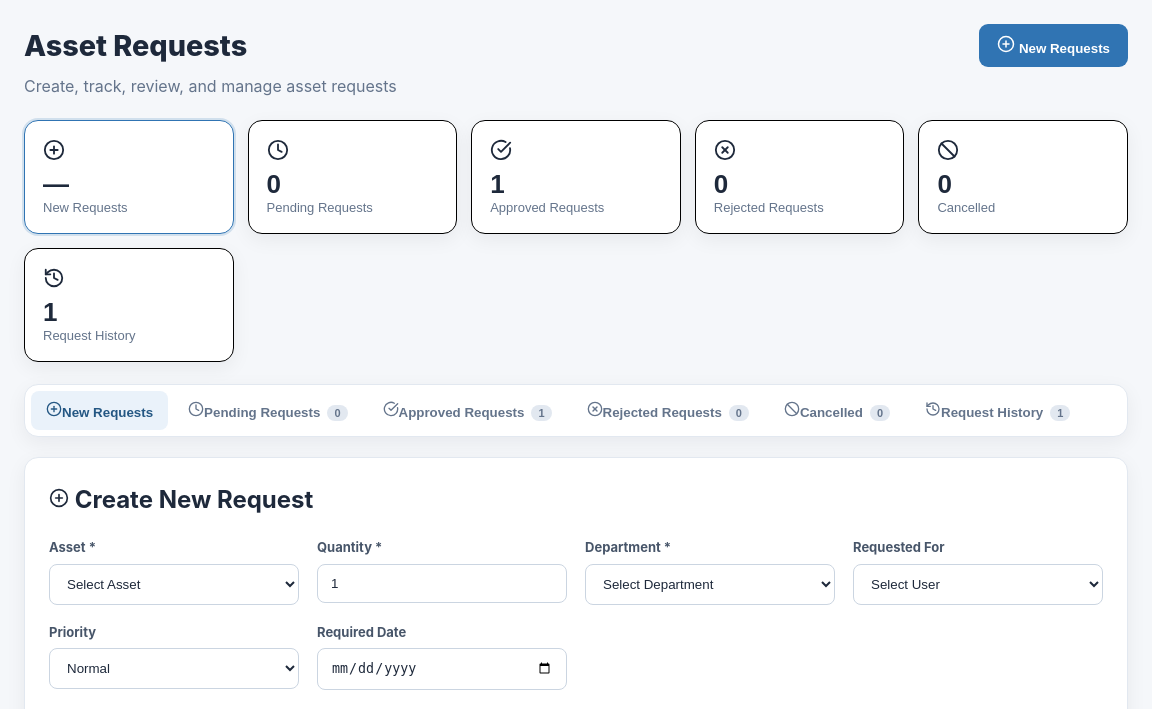
Test: loads and displays the persisted approval history in request details
Click the tab with aria-label "Approved Requests tab".
click(467, 411)  # box x1=368 y1=391 x2=566 y2=430
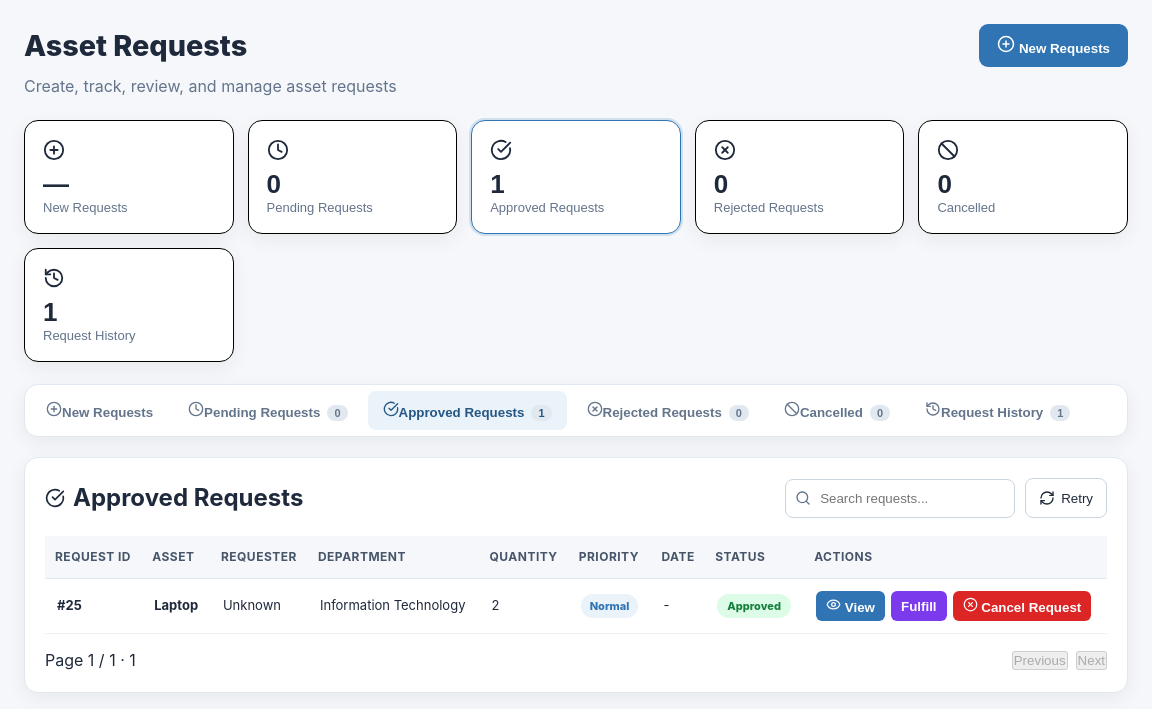
Click the button "View".
click(851, 606)  # box x1=816 y1=591 x2=885 y2=621
(page scrolled)
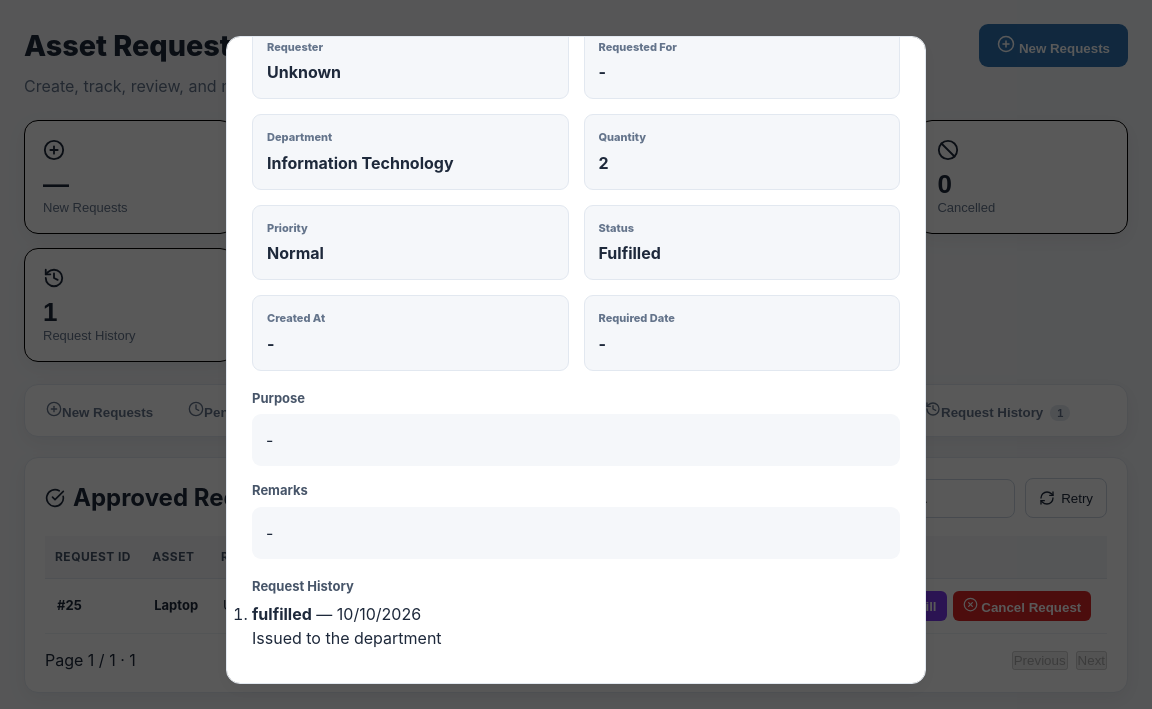
Expected: the text "Issued to the department" is shown, x1=252 y1=628 x2=442 y2=648
Expected: the text "fulfilled" is shown, x1=252 y1=604 x2=312 y2=624
